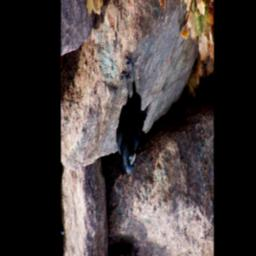Crow: (116, 50, 154, 180)
